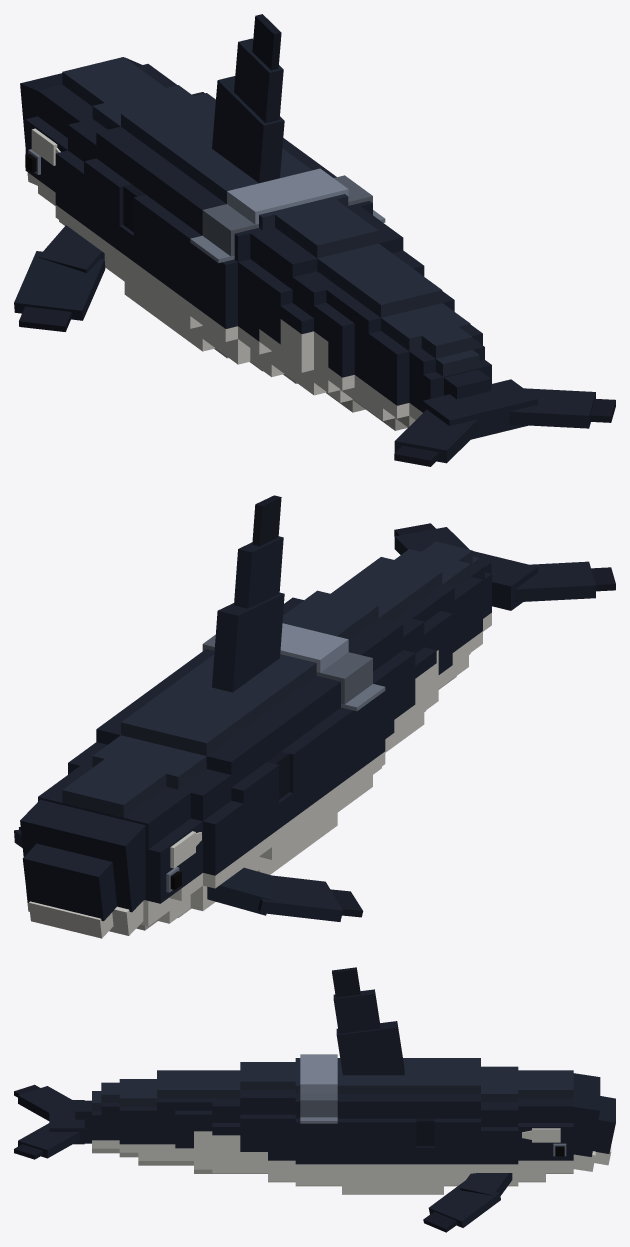
Rendered from Orca.glb.
The picture shows the model from 3 angles, top to bottom: view 1: azimuth 30°, elevation 25°; view 2: azimuth 150°, elevation 25°; view 3: azimuth 270°, elevation 25°; orthographic projection. The views are drawn at different scales.
Parts seen in each view (by area): view 1: S4, T1, T2, Fluke, T3, Head, T4, S2, S3, FlipperL, T5, S1 (+2 smaller); view 2: Head, S4, S2, S1, S3, T2, T1, Fluke, FlipperL, T3, T4, T5 (+1 smaller); view 3: S4, Head, T2, T1, S3, T3, S2, S1, T4, Fluke, T5, FlipperR (+2 smaller).
Part boxes in pixels (x1,y1,x2,y2): S4: [140, 14, 336, 358]; T1: [190, 168, 385, 371]; T2: [238, 199, 403, 383]; Fluke: [394, 379, 615, 466]; T3: [280, 243, 424, 412]; Head: [20, 57, 177, 225]; T4: [328, 269, 454, 420]; S2: [84, 93, 215, 281]; S3: [112, 119, 287, 314]; FlipperL: [14, 225, 105, 331]; T5: [368, 303, 482, 430]; S1: [55, 85, 204, 237]; Head: [20, 759, 202, 938]; S4: [153, 495, 349, 861]; S2: [96, 701, 271, 871]; S1: [68, 735, 243, 917]; S3: [125, 681, 300, 874]; T2: [282, 590, 415, 774]; T1: [202, 623, 385, 812]; Fluke: [394, 523, 615, 610]; FlipperL: [207, 867, 363, 921]; T3: [331, 577, 438, 739]; T4: [353, 557, 454, 689]; T5: [394, 549, 482, 686]; S4: [332, 967, 406, 1194]; Head: [518, 1070, 615, 1182]; T2: [240, 1062, 295, 1182]; T1: [295, 1054, 341, 1186]; S3: [407, 1058, 443, 1194]; T3: [194, 1070, 240, 1173]; S2: [444, 1058, 480, 1186]; S1: [481, 1066, 518, 1186]; T4: [157, 1070, 193, 1165]; Fluke: [14, 1084, 84, 1159]; T5: [119, 1079, 156, 1165]; FlipperR: [423, 1173, 512, 1232].
Bounding box in the file's own units: 12.64 × 11.39 × 29.24.
